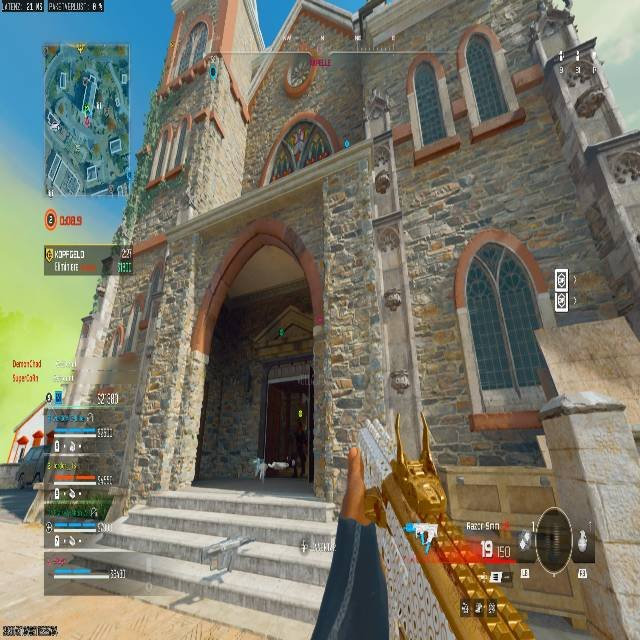player: (289, 418, 312, 477)
